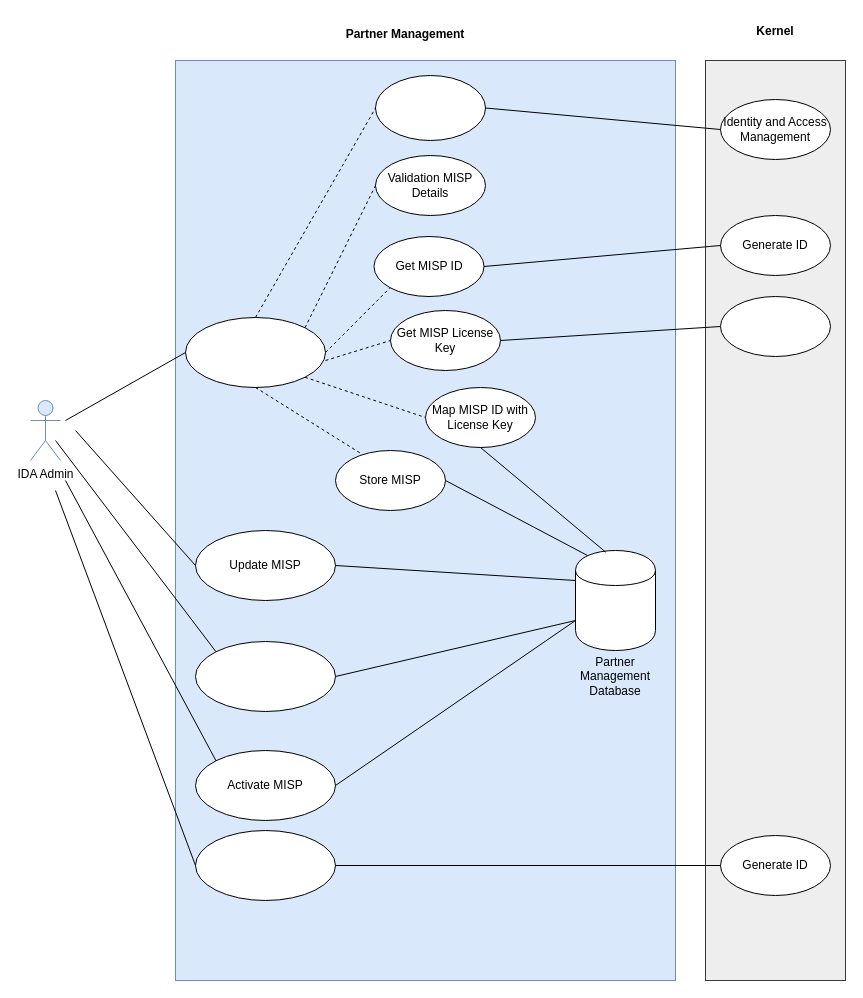
The diagram is 863 pixels wide and 998 high, and some of its shapes have lost their labels. The centre of each missing label's shape, as x and y in pixels:
"Block MISP" goes at (x=265, y=676).
"Create MISP" goes at (x=255, y=352).
"Generate License Key" goes at (x=775, y=326).
"Get MISP LK" goes at (x=265, y=865).
"MISP Authentication/ Authorization" goes at (x=430, y=107).
